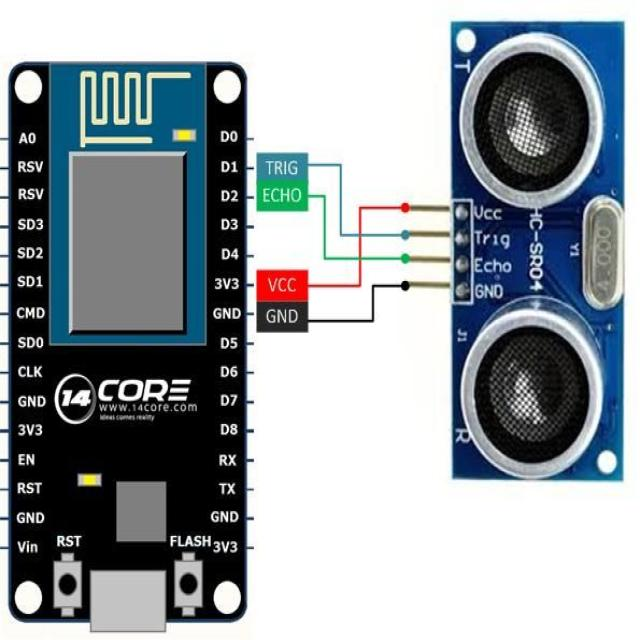Ultrasonic Sensor: (408, 14, 631, 488)
